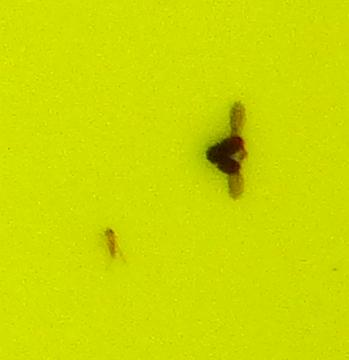Coleoptera: (200, 100, 249, 201)
Hemiptera: (100, 225, 120, 260)
